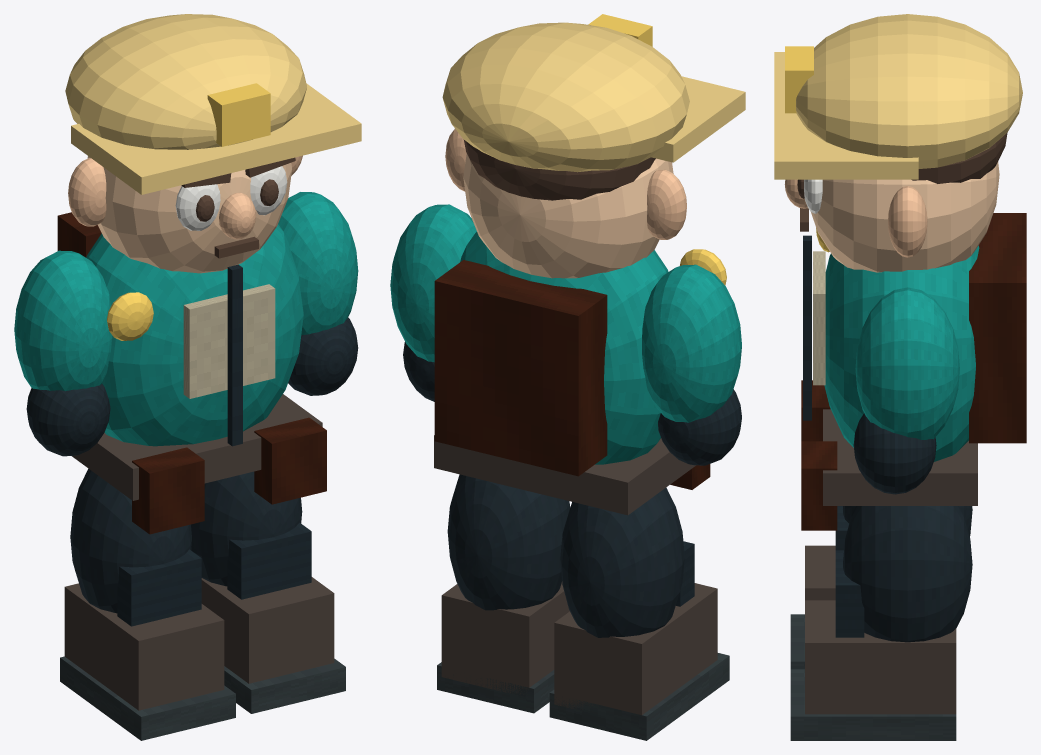
Rendered from bp_residentteal.glb.
3 renders of one model, left to right at view 1: azimuth 30°, elevation 25°; view 2: azimuth 150°, elevation 25°; view 3: azimuth 270°, elevation 25°, orthographic. The views are drawn at different scales.
Parts seen in each view (by area): view 1: Helmet.001, Torso.001, Boot_L.001, Sleeve_L.001, HelmetBrim.001, Boot_R.001, HeadMesh.001, Trouser_L.001, Sleeve_R.001, Shirt.001, Trouser_R.001, Belt.001 (+17 smaller); view 2: Backpack.001, Helmet.001, Trouser_L.001, HeadMesh.001, Trouser_R.001, Boot_L.001, Sleeve_L.001, Torso.001, Boot_R.001, Belt.001, Sleeve_R.001, Sole_L.001 (+11 smaller); view 3: Helmet.001, Trouser_R.001, Boot_R.001, Sleeve_R.001, HeadMesh.001, Torso.001, Backpack.001, Belt.001, HelmetBrim.001, Sole_R.001, Glove_R.001, BeltPouch.003 (+11 smaller).
Part boxes in pixels (x1,y1,x2,y2): Helmet.001: (65, 14, 306, 149); Torso.001: (86, 224, 303, 446); Boot_L.001: (64, 583, 224, 710); Sleeve_L.001: (14, 250, 112, 391); HelmetBrim.001: (71, 83, 361, 194); Boot_R.001: (201, 577, 334, 683); HeadMesh.001: (87, 156, 292, 273); Trouser_L.001: (70, 468, 191, 613); Sleeve_R.001: (278, 192, 358, 334); Shirt.001: (183, 284, 275, 398); Trouser_R.001: (191, 471, 302, 586); Belt.001: (72, 394, 322, 500); Backpack.001: (434, 260, 607, 476); Helmet.001: (442, 22, 689, 172); Trouser_L.001: (560, 487, 684, 637); HeadMesh.001: (463, 153, 673, 278); Trouser_R.001: (447, 474, 570, 610); Boot_L.001: (554, 583, 717, 715); Sleeve_L.001: (642, 264, 741, 422); Torso.001: (460, 232, 668, 464); Boot_R.001: (441, 581, 569, 694); Belt.001: (434, 435, 695, 515); Sleeve_R.001: (390, 204, 476, 362); Sole_L.001: (549, 653, 729, 740); Helmet.001: (796, 14, 1022, 168); Trouser_R.001: (843, 506, 972, 642); Boot_R.001: (805, 600, 956, 714); Sleeve_R.001: (855, 287, 959, 439); HeadMesh.001: (810, 161, 999, 272); Torso.001: (824, 245, 979, 461); Backpack.001: (969, 213, 1026, 443); Belt.001: (823, 409, 977, 505); HelmetBrim.001: (774, 52, 918, 179); Sole_R.001: (790, 669, 956, 740); Glove_R.001: (853, 413, 936, 494); BeltPouch.003: (801, 441, 837, 530).
Bounding box in the file's own units: 1.08 × 2.01 × 0.7.
13 materials, 6 textured.
